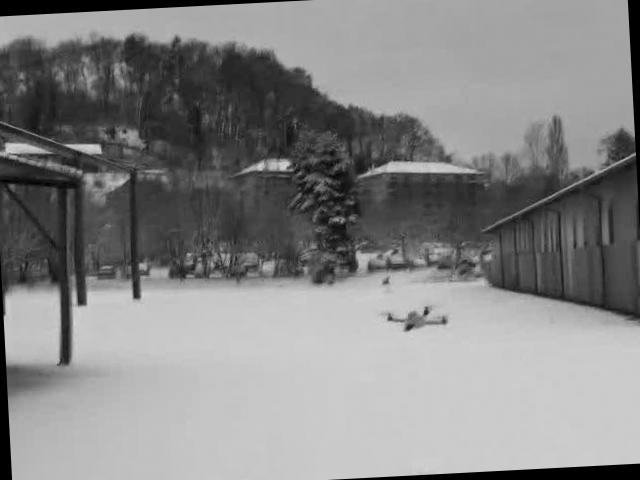drone: (377, 300, 450, 336)
